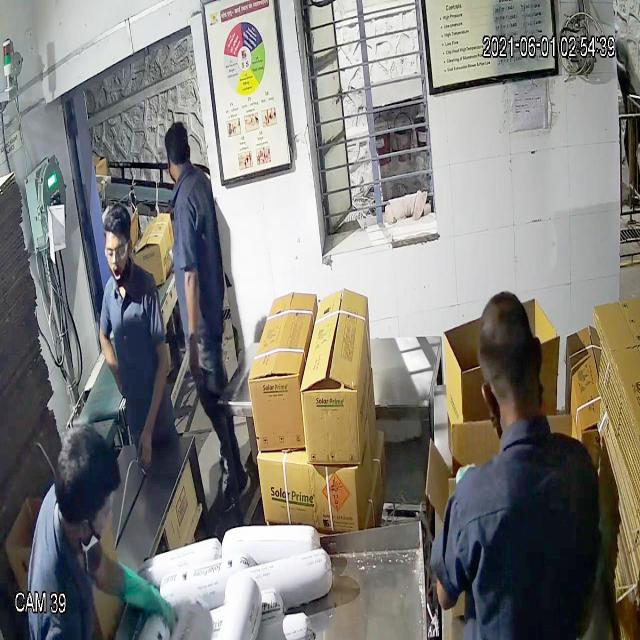glasses: (101, 230, 136, 270)
